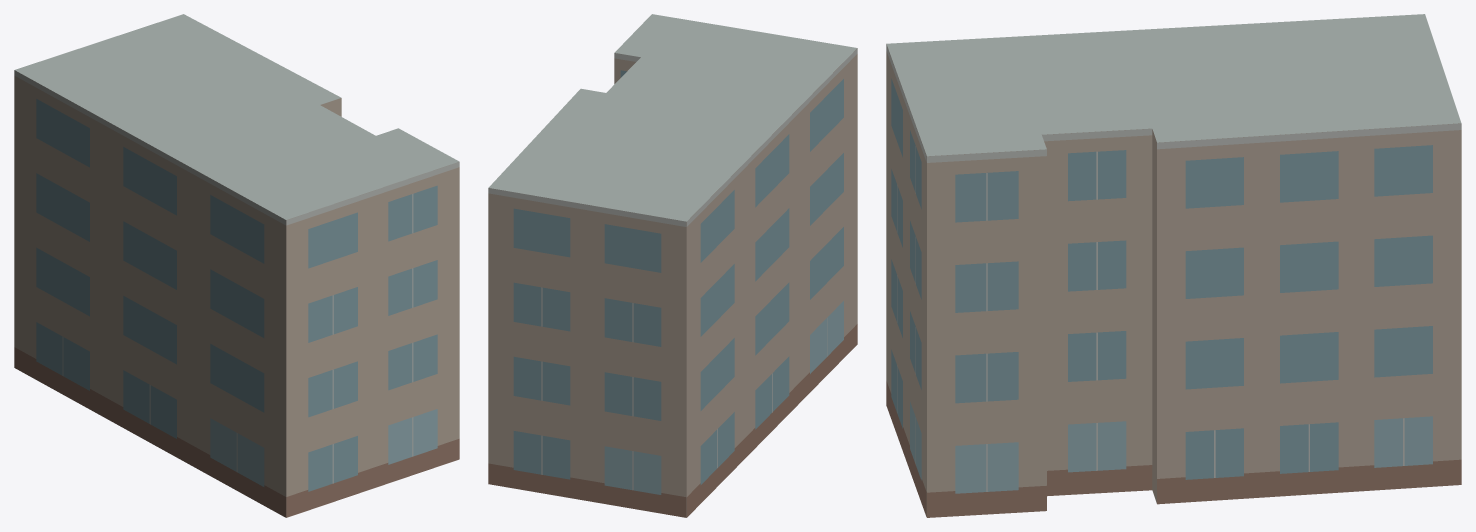
Rendered from survey-upis-32709189.glb.
3 renders of one model, left to right at view 1: azimuth 30°, elevation 25°; view 2: azimuth 150°, elevation 25°; view 3: azimuth 270°, elevation 25°, orthographic. The views are drawn at different scales.
Visible parts, largest first — view 1: survey-upis-32709189.tmp; view 2: survey-upis-32709189.tmp; view 3: survey-upis-32709189.tmp.
Boxes of the visible parts, x1,y1,x2,y2 form: survey-upis-32709189.tmp: (14,14,459,517); survey-upis-32709189.tmp: (488,14,857,517); survey-upis-32709189.tmp: (886,14,1461,517).
Bounding box in the file's own units: 11.02 × 13.05 × 18.82.
